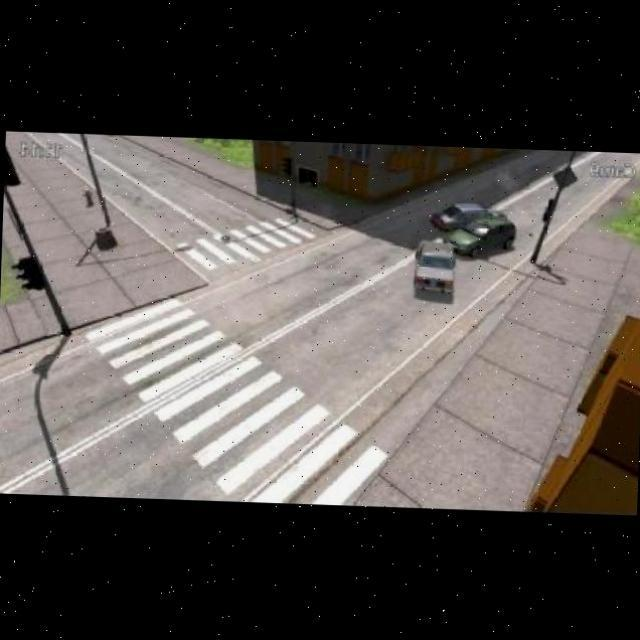accident: (408, 195, 519, 304)
